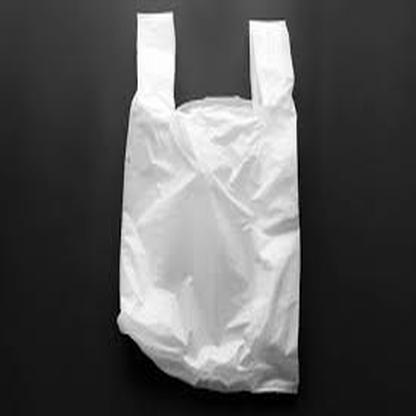plastic bag: (117, 10, 299, 394)
